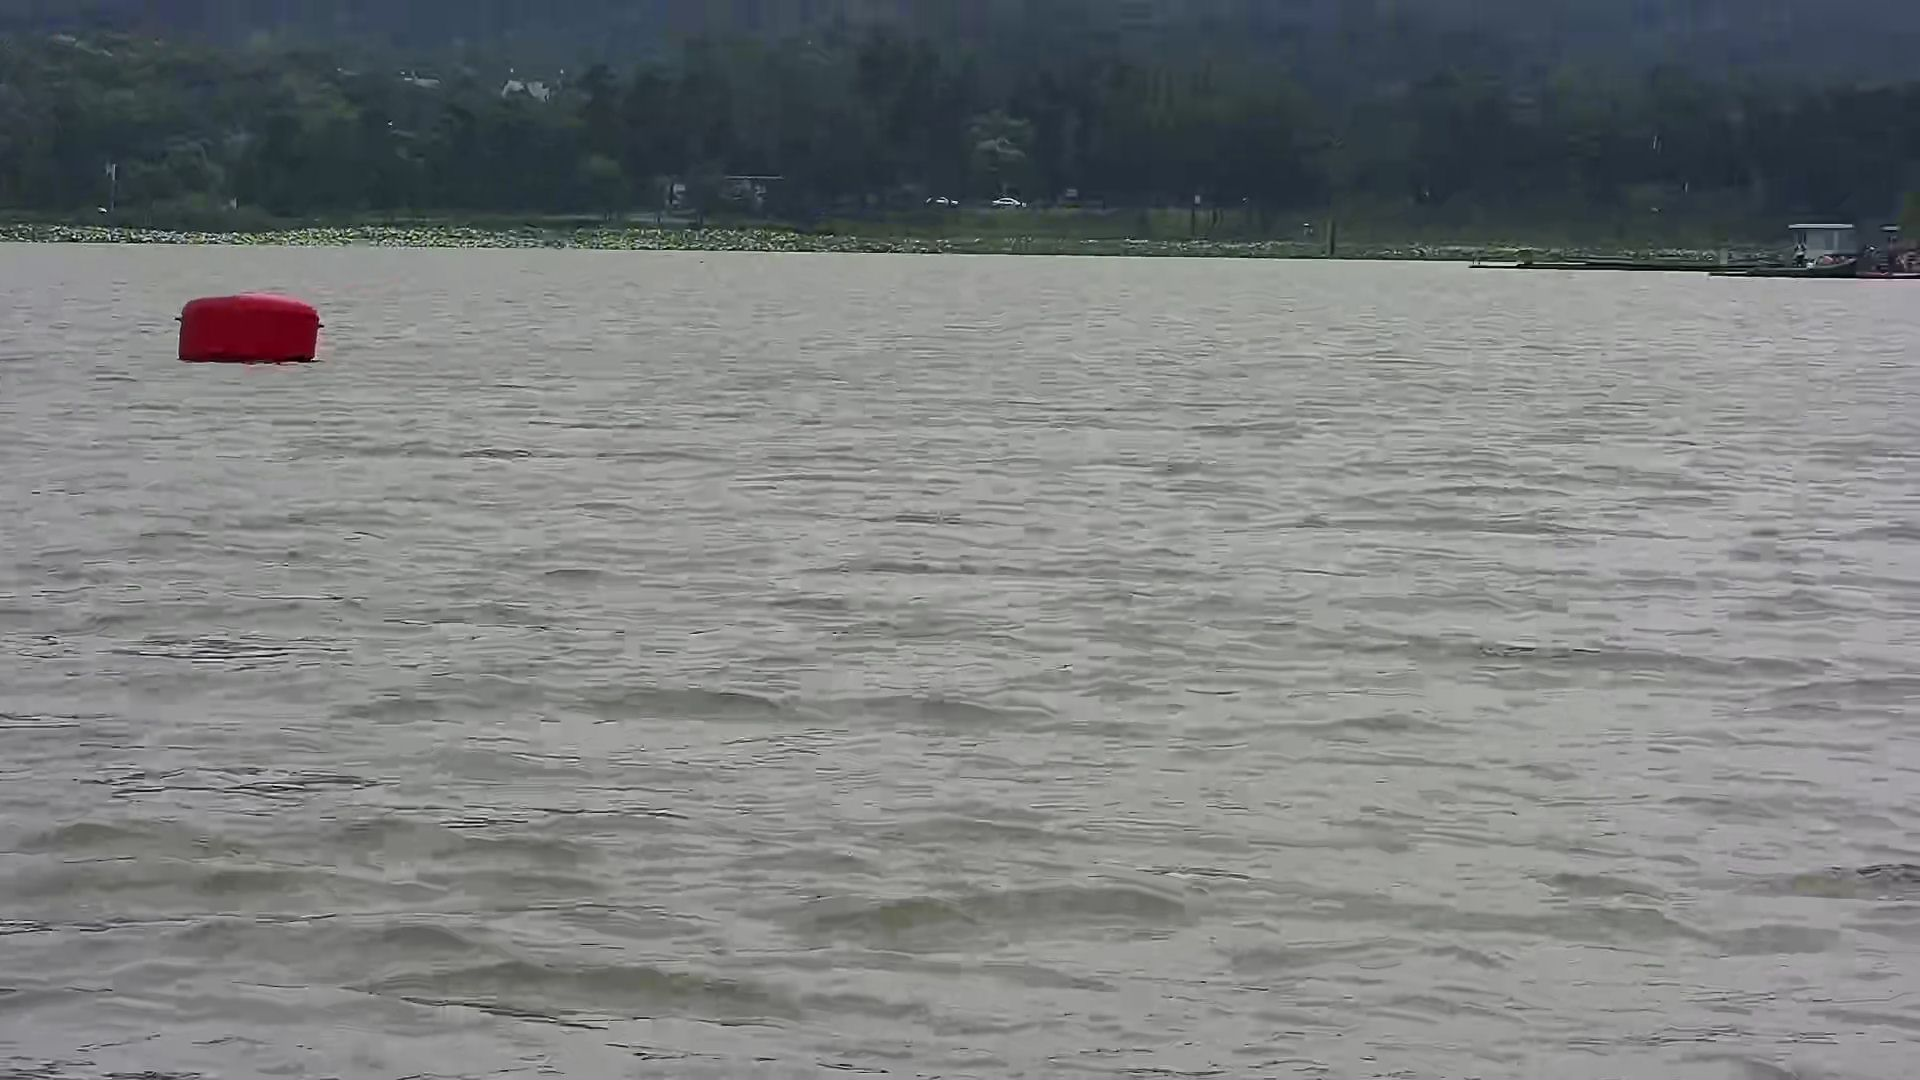rubbish: (167, 289, 318, 367)
